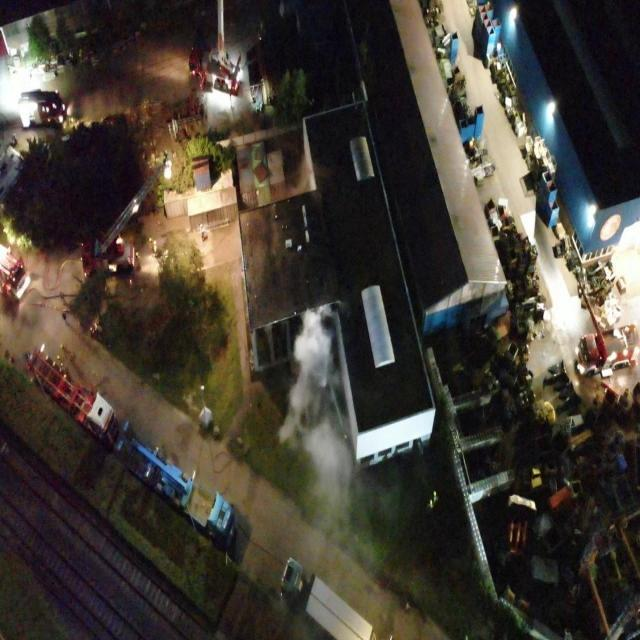Smoke: (276, 298, 406, 594)
